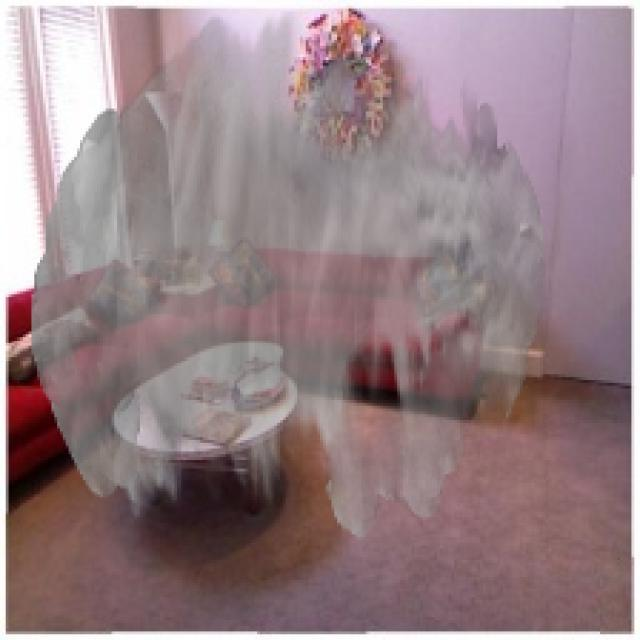Smoke: (31, 11, 546, 540)
